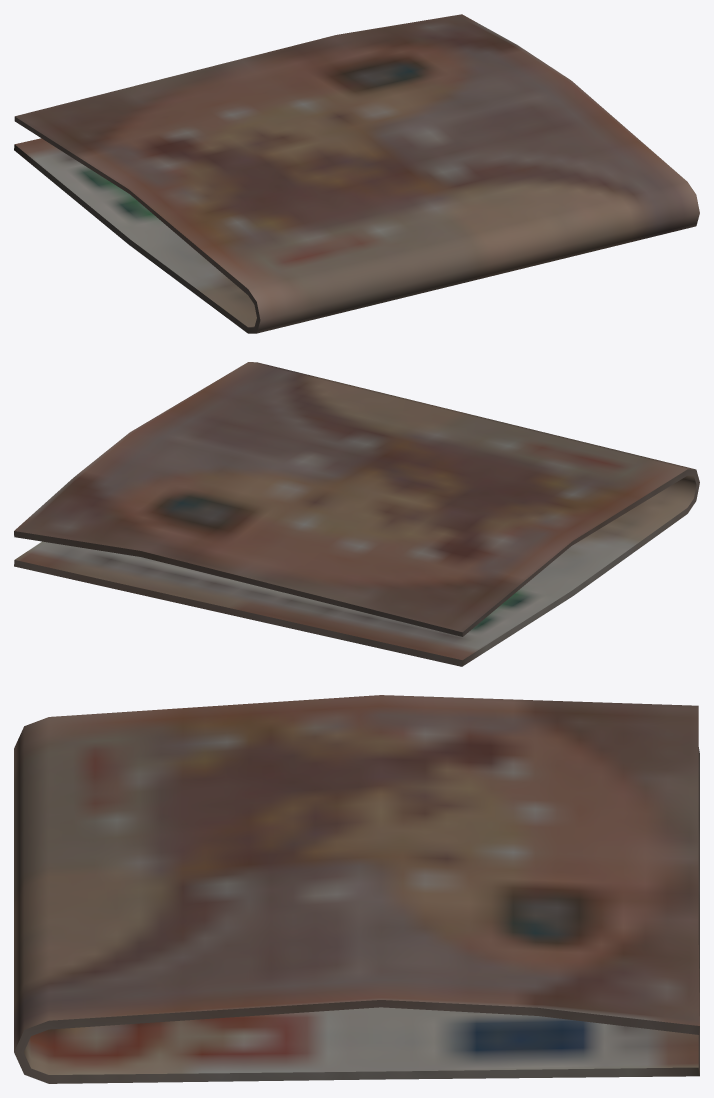
Rendered from cash_6_1.obj.
3 views of the same model, one above another, from view 1: azimuth 30°, elevation 25°; view 2: azimuth 150°, elevation 25°; view 3: azimuth 270°, elevation 25° (orthographic). The views are drawn at different scales.
Visible parts, largest first — view 1: cash_6_1; view 2: cash_6_1; view 3: cash_6_1.
Boxes of the visible parts, x1,y1,x2,y2 form: cash_6_1: (14,14,699,333); cash_6_1: (14,362,699,666); cash_6_1: (14,695,699,1083).
Bounding box in the file's own units: 0.1261 × 0.0161 × 0.118.
